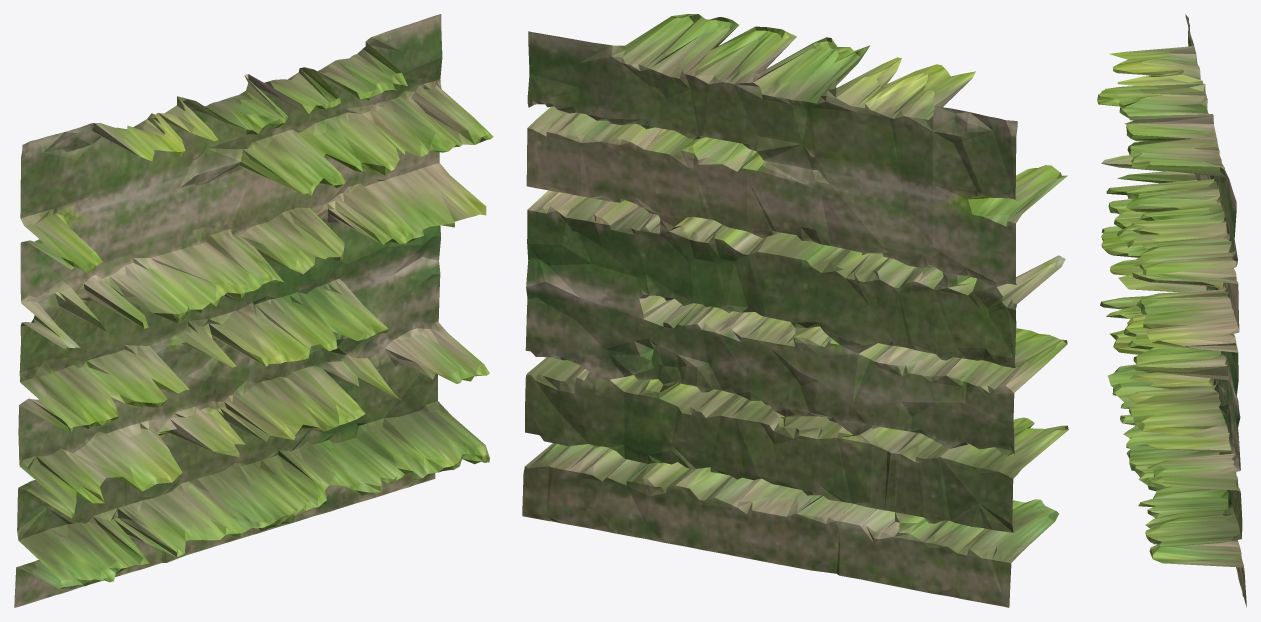
The model's file is map_90_30.obj.
3 views of the same model, side by side, from view 1: azimuth 30°, elevation 25°; view 2: azimuth 150°, elevation 25°; view 3: azimuth 270°, elevation 25° (orthographic). The views are drawn at different scales.
Parts seen in each view (by area): view 1: grp1; view 2: grp1; view 3: grp1.
Part boxes in pixels (x1,y1,x2,y2): grp1: (14,14,493,607); grp1: (522,14,1068,607); grp1: (1097,14,1246,607).
Size of the model in its own units: 10 by 10 by 3.34.
1 material, 1 textured.
